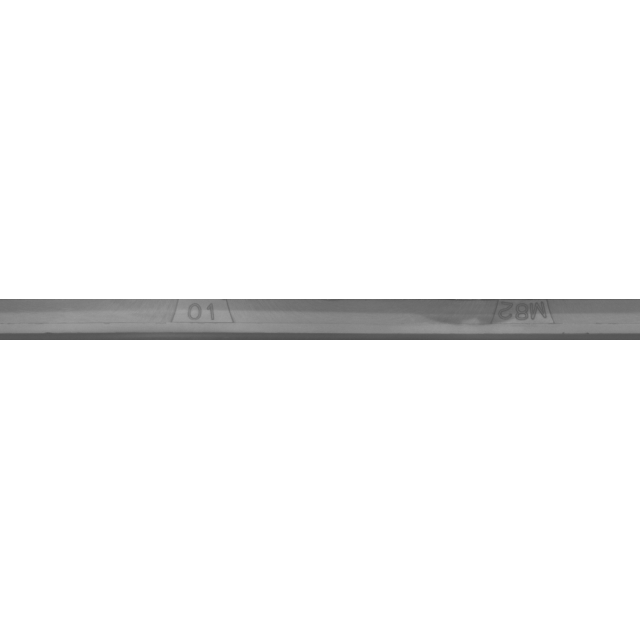mohao: (432, 270, 632, 370)
xuehao: (105, 270, 305, 370)
